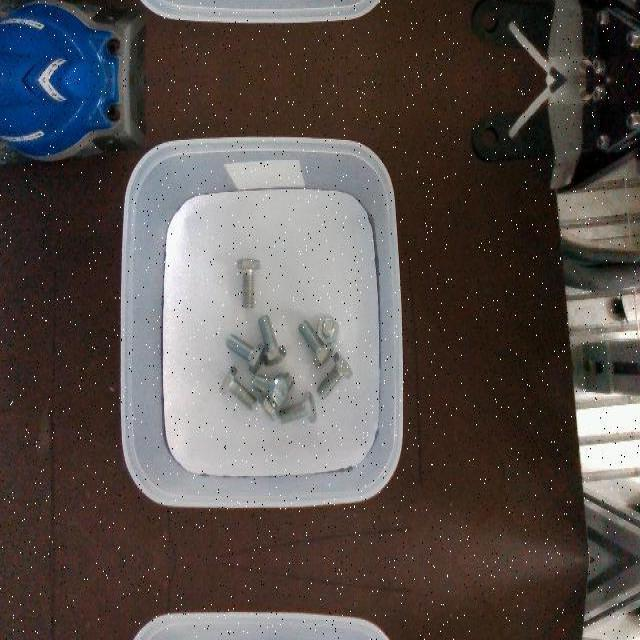screw: (316, 350, 353, 400), (298, 319, 334, 369), (219, 366, 256, 410), (225, 332, 265, 372), (258, 314, 285, 366), (279, 390, 317, 424), (238, 257, 262, 307), (253, 373, 288, 407), (317, 315, 339, 345)
